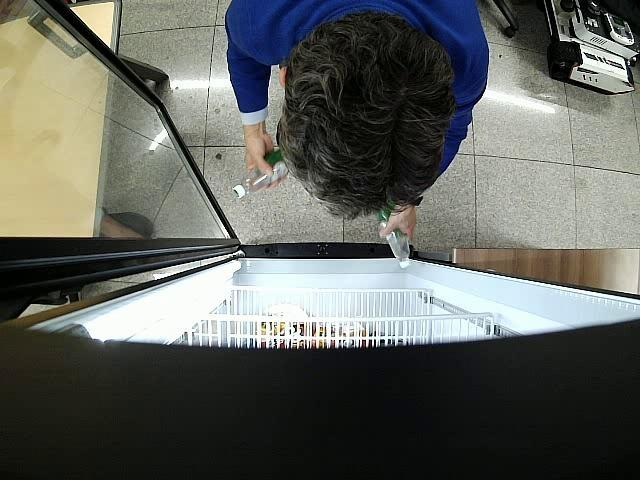18_trevi: (232, 152, 288, 198), (380, 208, 410, 269)
